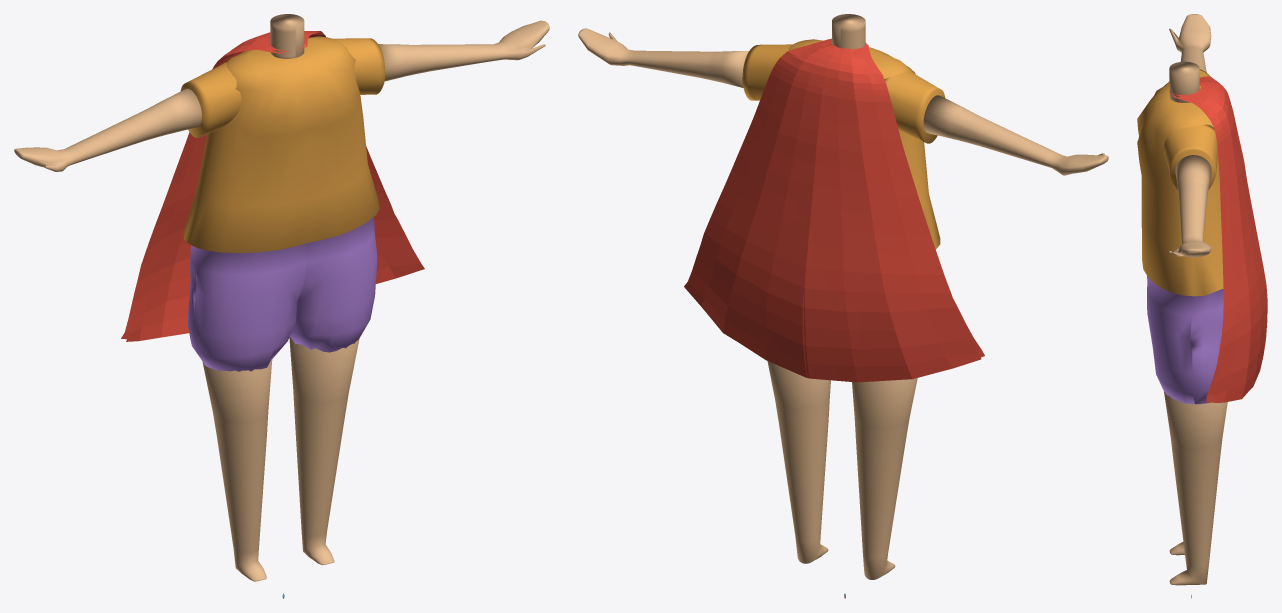
File: Player08.fbx
3 renders of one model, left to right at view 1: azimuth 30°, elevation 25°; view 2: azimuth 150°, elevation 25°; view 3: azimuth 270°, elevation 25°, orthographic. The views are drawn at different scales.
Visible parts, largest first — view 1: Body, Leg, Hand, Mant, Neck; view 2: Mant, Leg, Hand, Body, Neck; view 3: Body, Mant, Leg, Hand, Neck.
Part boxes in pixels (x1,y1,x2,y2): Body: (184,36,379,371); Leg: (202,337,359,581); Hand: (14,20,549,171); Mant: (121,31,424,341); Neck: (270,14,304,58); Mant: (684,38,984,382); Leg: (767,361,917,579); Hand: (578,28,1108,175); Body: (789,39,940,248); Neck: (832,14,865,49); Body: (1137,81,1223,404); Mant: (1170,76,1267,402); Leg: (1164,391,1227,585); Hand: (1164,14,1217,257); Neck: (1169,61,1199,102).
Bounding box in the file's own units: 332 × 348 × 77.48.
